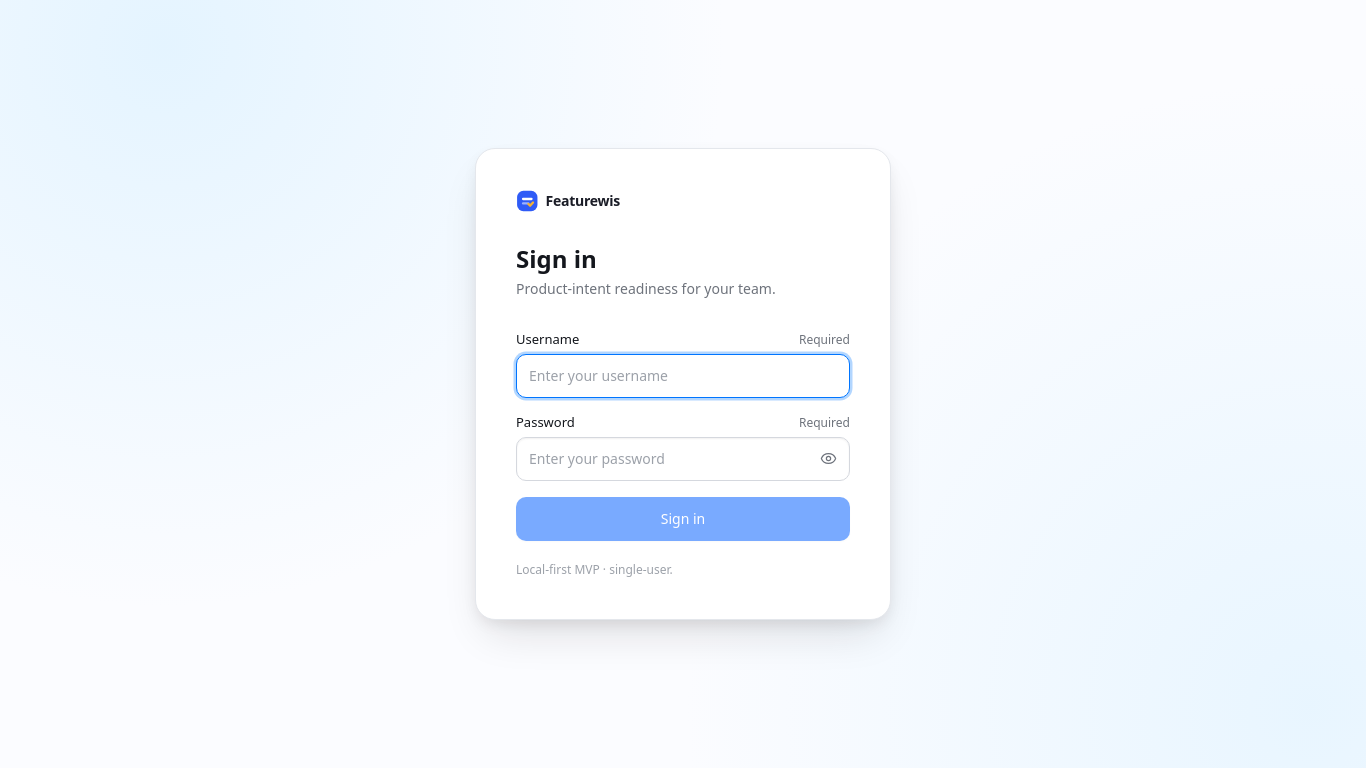
Test: application routes › shows invalid credential feedback from the backend
Type "marco" into the field labelled "Username" at (683, 376), box [516,354,850,398]
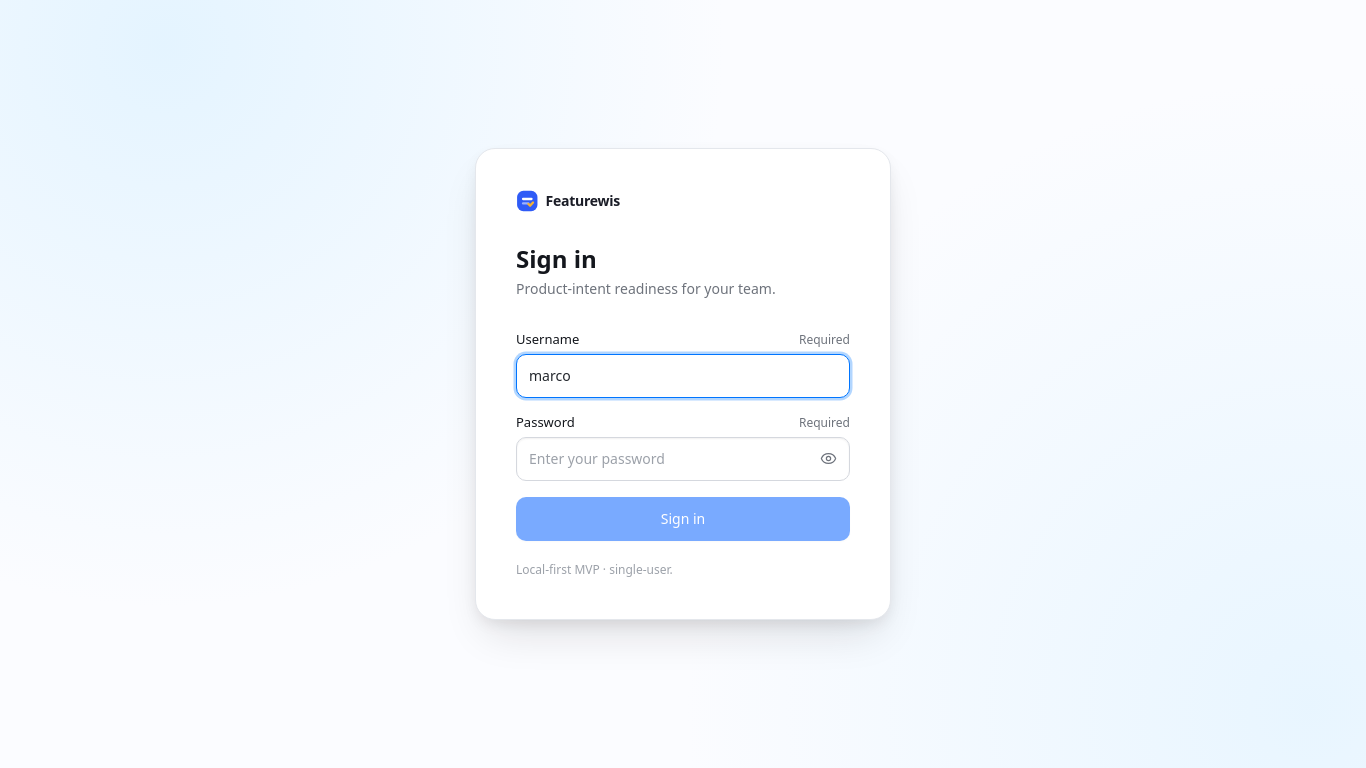
Type "wrong-password" into the password field labelled "Password" at (683, 459), box [516,437,850,481]
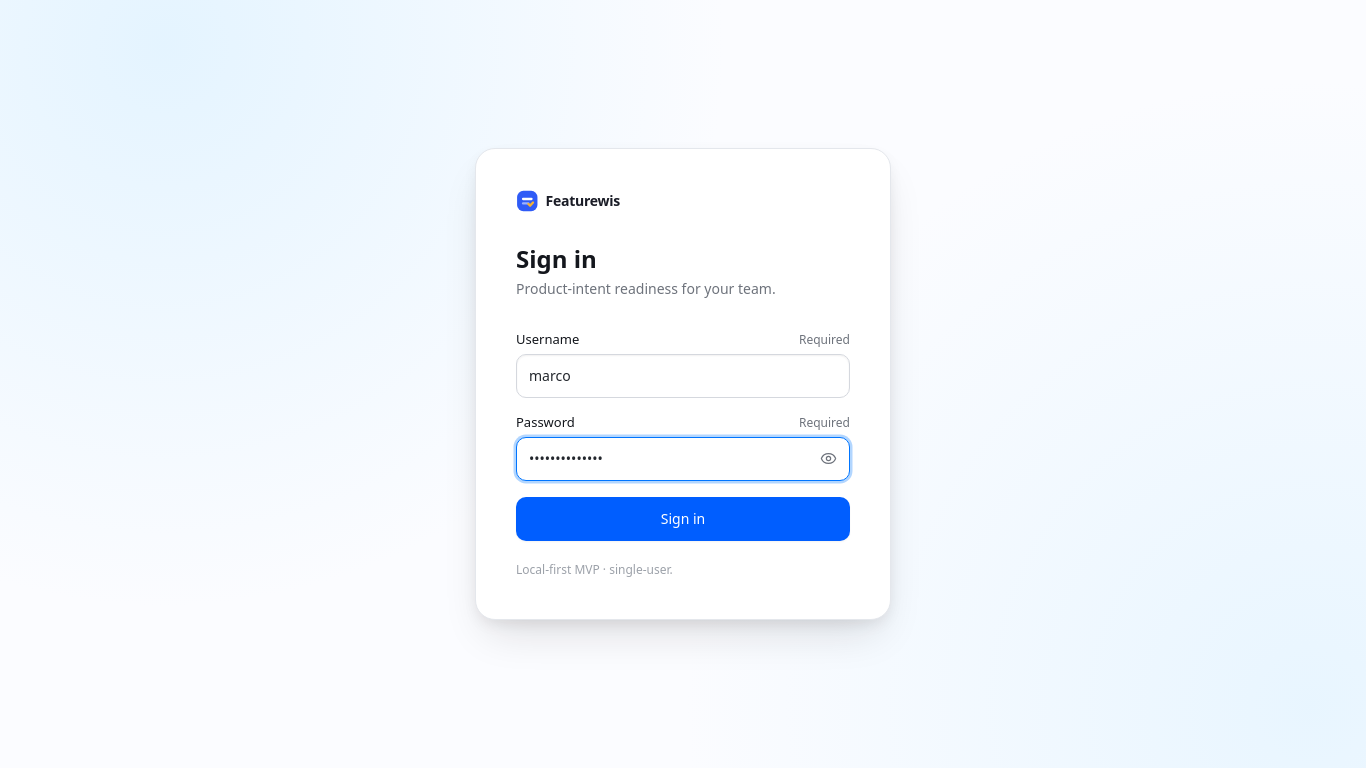
Click the button "Sign in" at (683, 519), box [516,497,850,541]
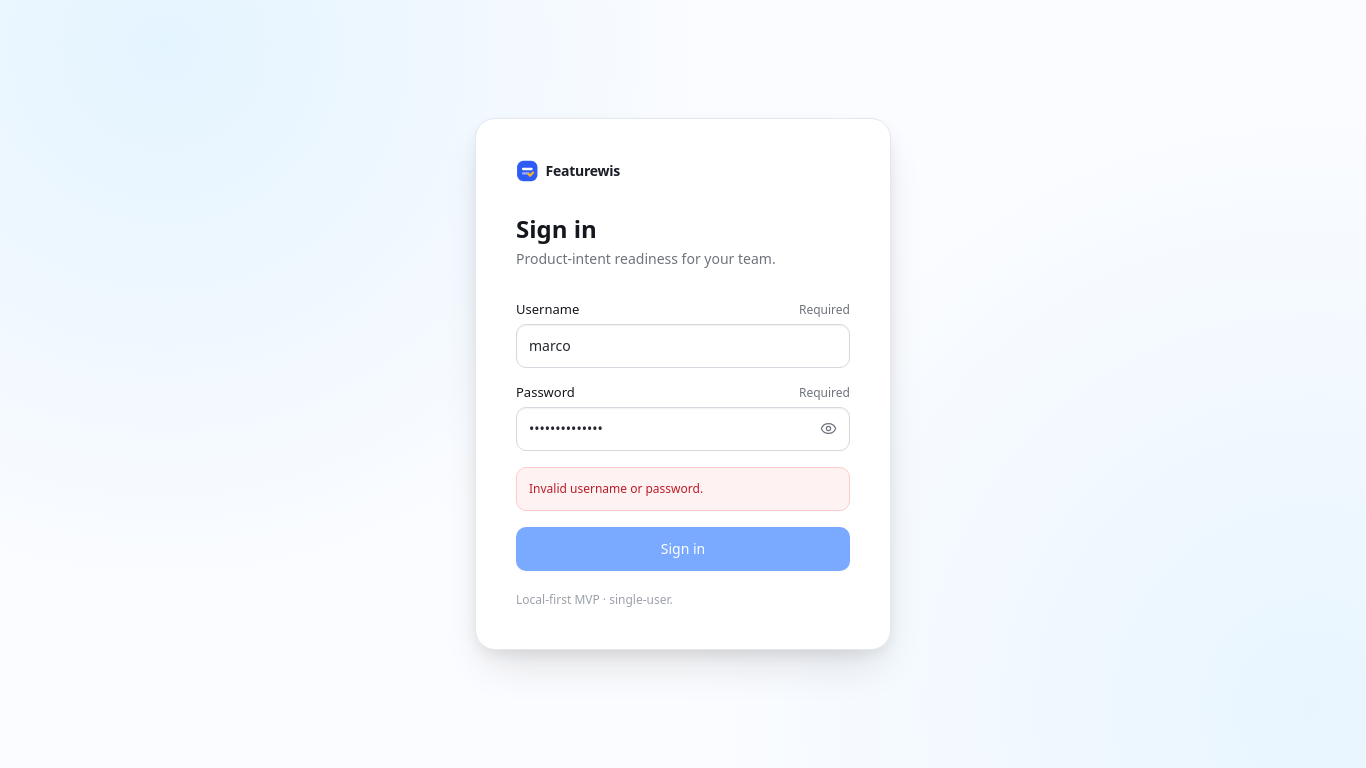
Check: the message reads "Invalid username or password.", box [529,480,703,497]
